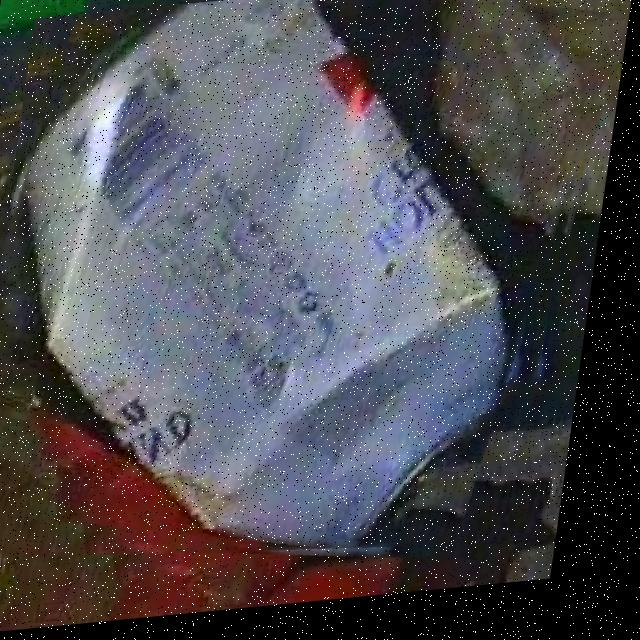litter: (0, 0, 619, 597)
